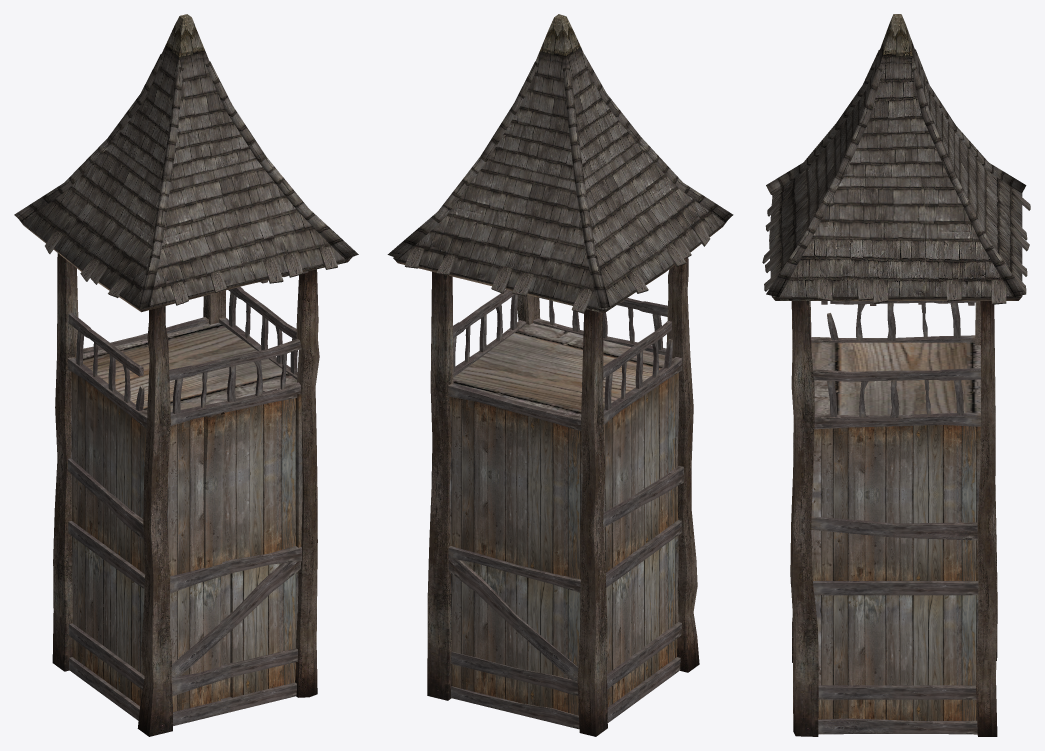
The model's file is LookOut01.FBX.
3 views of the same model, side by side, from view 1: azimuth 30°, elevation 25°; view 2: azimuth 150°, elevation 25°; view 3: azimuth 270°, elevation 25° (orthographic). The views are drawn at different scales.
Visible parts, largest first — view 1: LV_TurtleLake_Lakevilage_LookOut01_SM_KSR; view 2: LV_TurtleLake_Lakevilage_LookOut01_SM_KSR; view 3: LV_TurtleLake_Lakevilage_LookOut01_SM_KSR.
Part boxes in pixels (x1=…): LV_TurtleLake_Lakevilage_LookOut01_SM_KSR: x1=14, y1=14, x2=358, y2=736; LV_TurtleLake_Lakevilage_LookOut01_SM_KSR: x1=387, y1=14, x2=733, y2=736; LV_TurtleLake_Lakevilage_LookOut01_SM_KSR: x1=762, y1=14, x2=1030, y2=736.
Bounding box in the file's own units: 129 × 364 × 130.
